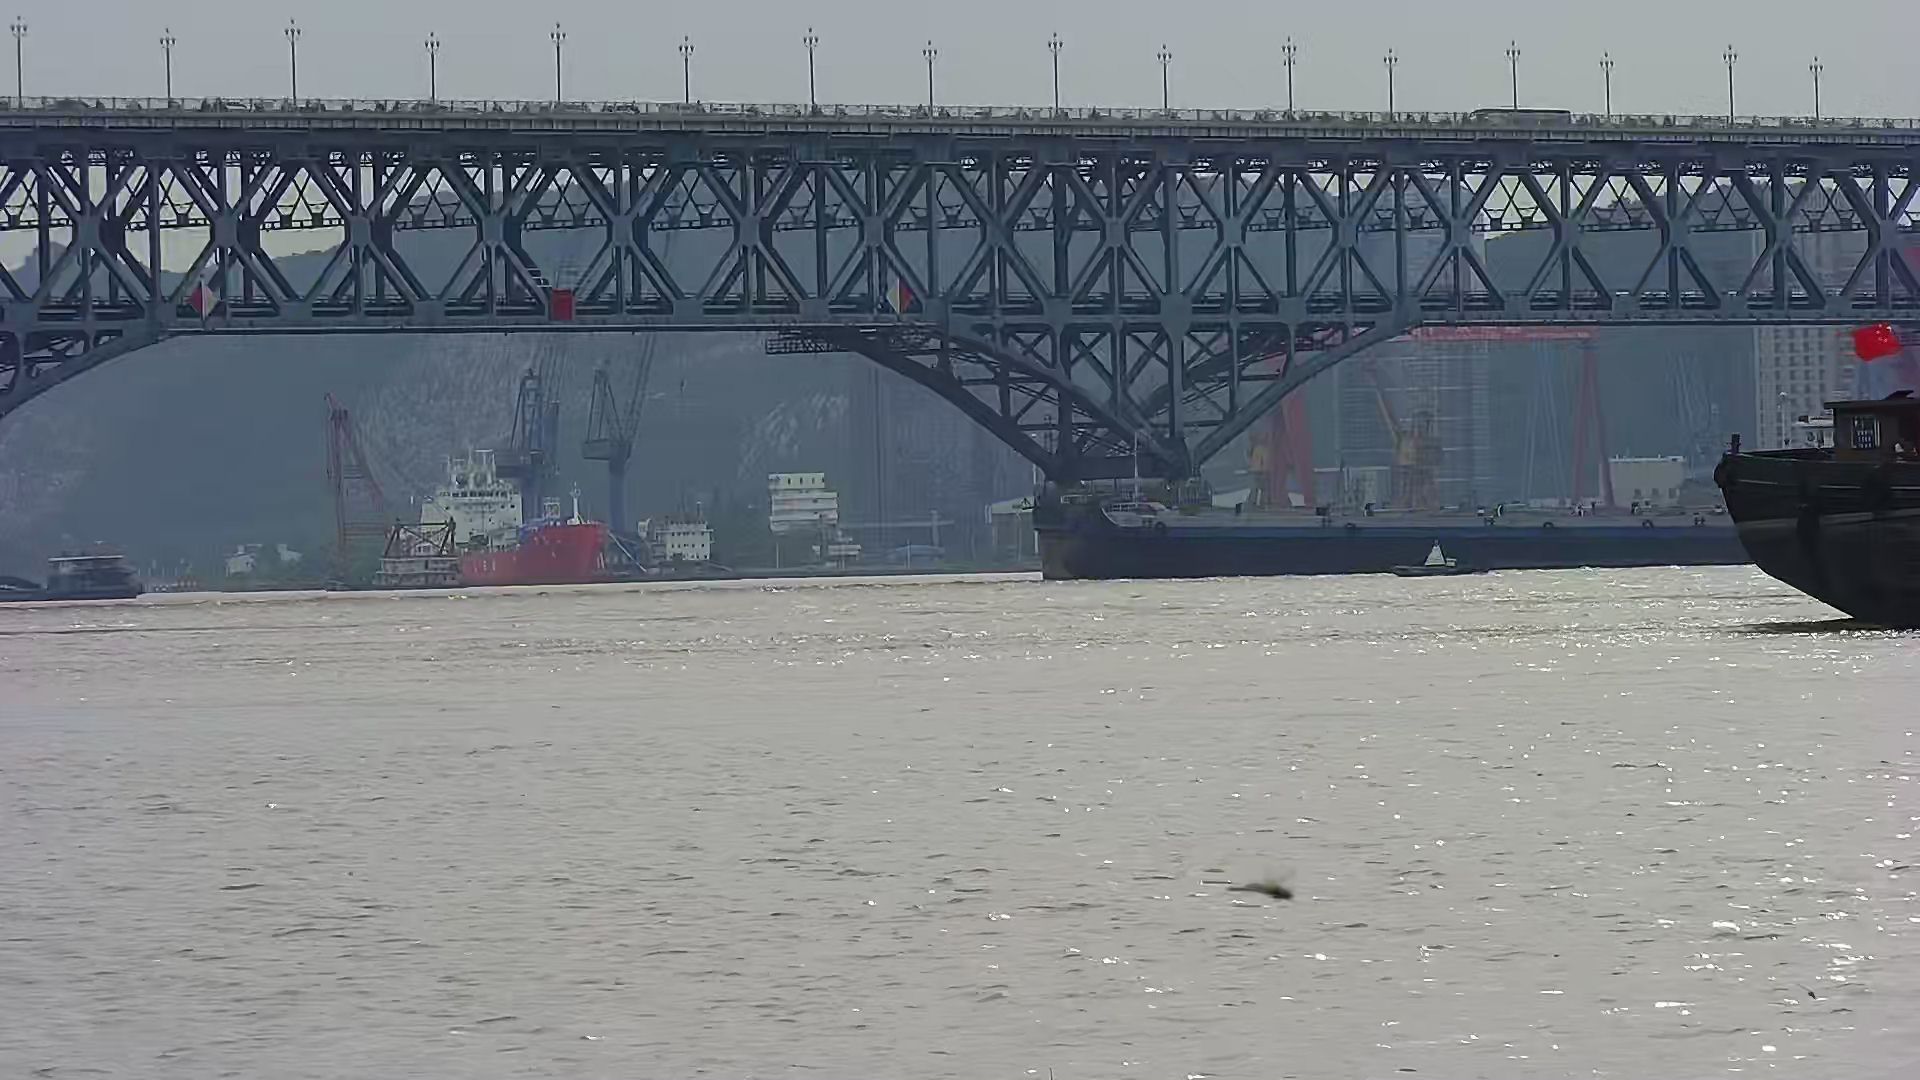boat: (1389, 531, 1491, 583)
bridge: (3, 8, 1920, 492)
ship: (1023, 469, 1760, 575), (444, 477, 634, 599), (1, 534, 171, 618)
